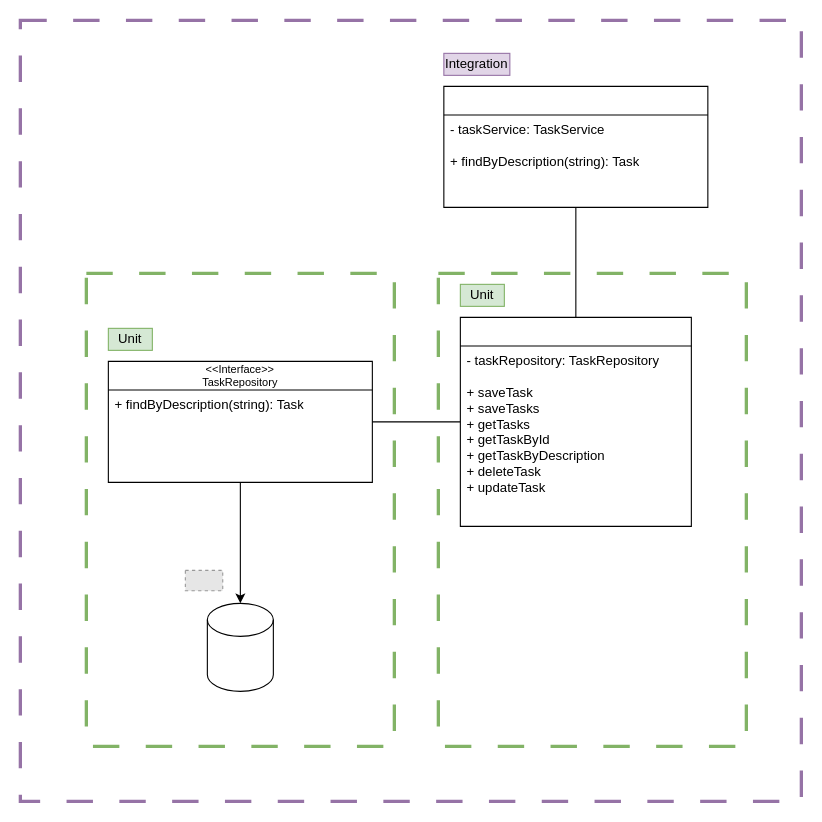
Image size: 822x822. Some labels were removed from this diagram. Grey dashed boxes stand in for pictures. Each missing label, with the box of its shape:
TaskRepository: (443, 85, 708, 207)
TaskService: (459, 316, 691, 526)
